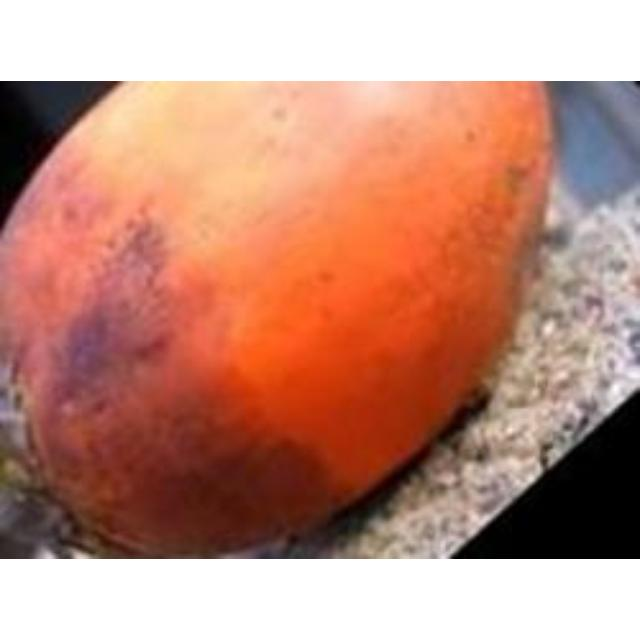good: (0, 81, 558, 557)
